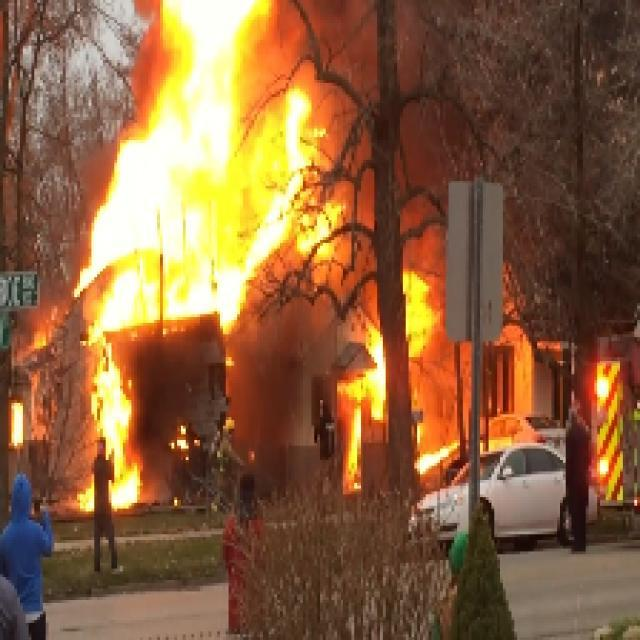Fire: (114, 2, 276, 318)
